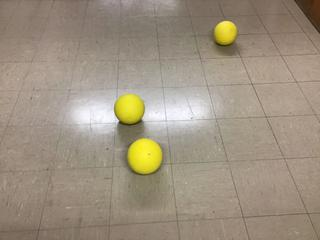power_cell: (128, 136, 167, 174), (115, 93, 146, 125), (214, 19, 237, 46)
